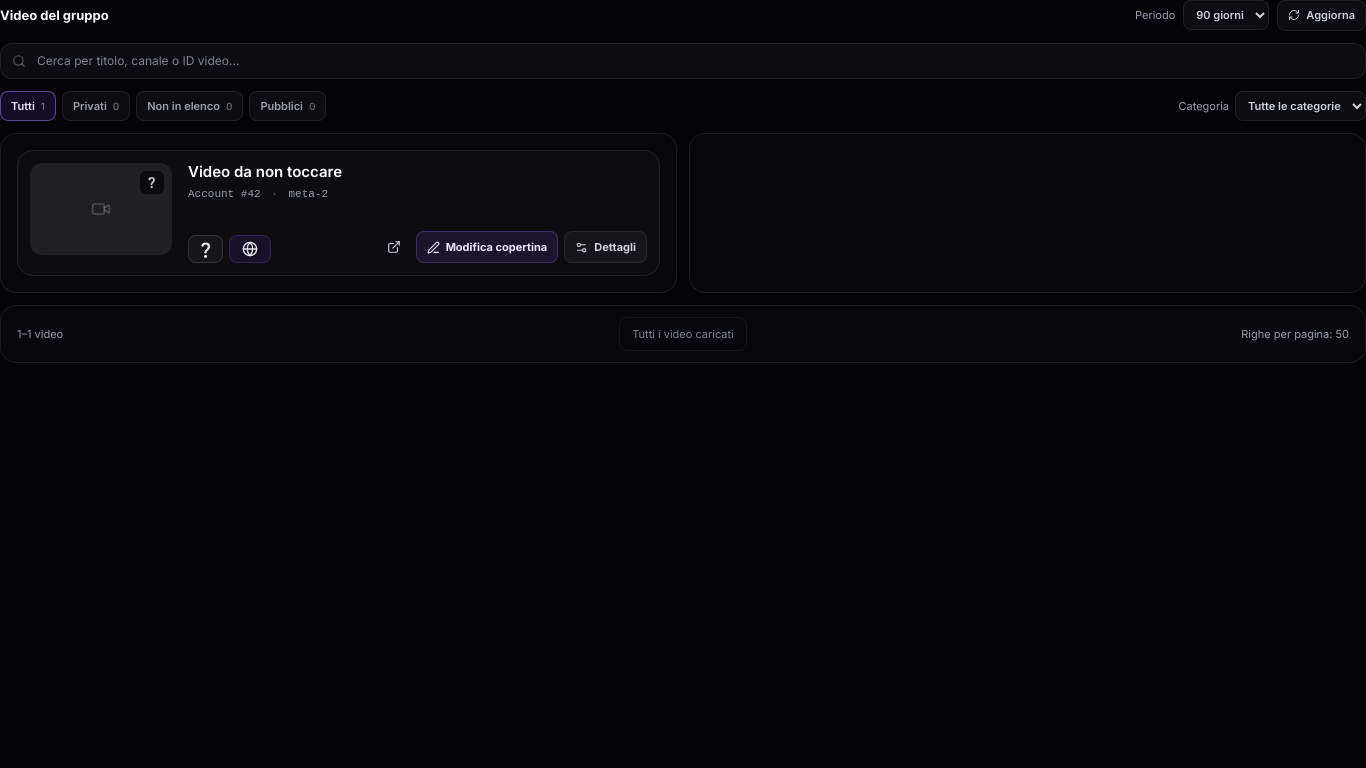
Test: GroupYouTubeVideos › cancels the 'Modifica video' drawer without saving
Expected: the text "Video da non toccare" is shown, x1=188 y1=162 x2=342 y2=181
Click the button "Dettagli" at [606, 247], box x1=564 y1=231 x2=647 y2=263
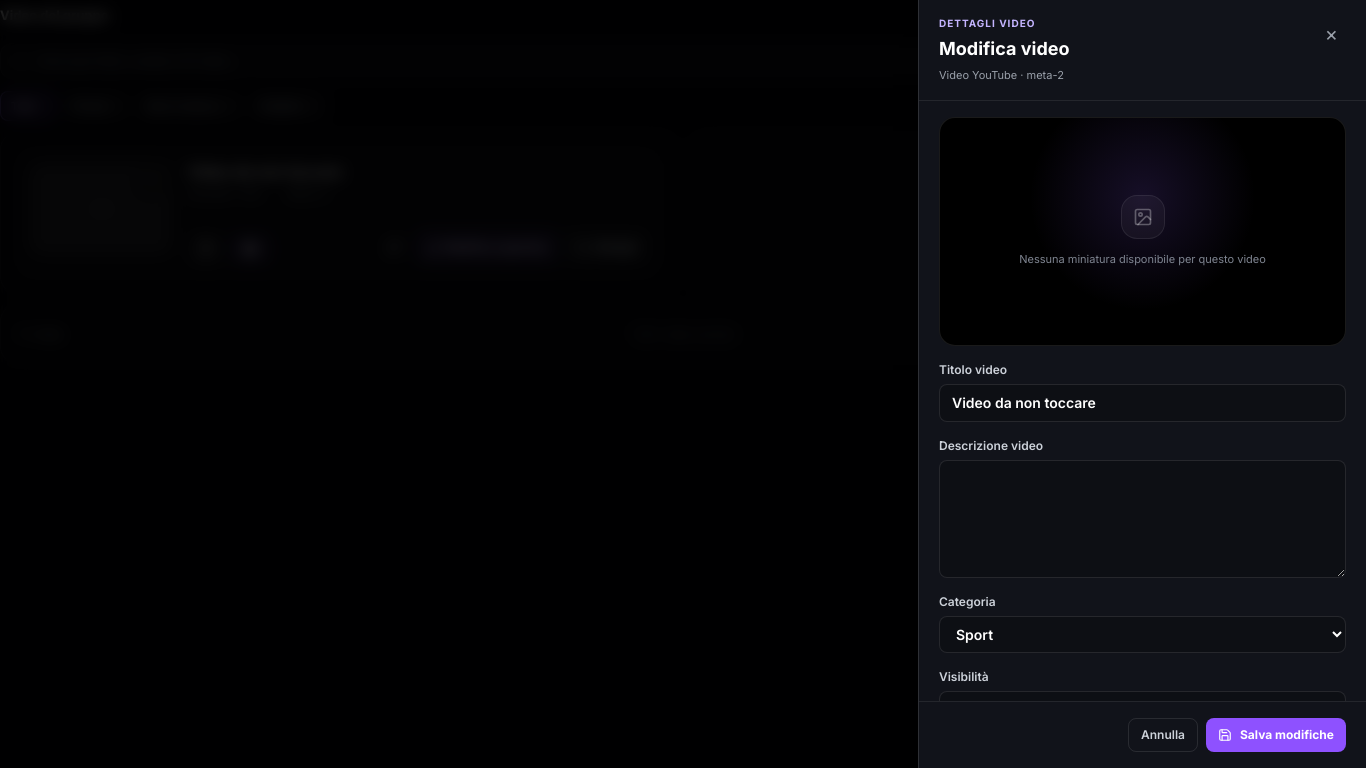
Result: the dialog with test id "edit-metadata-drawer" is shown at x1=918 y1=0 x2=1365 y2=767
Note: Dirty the fields, then Annulla: no PATCH is issued.
Replace the text in the field with test id "edit-metadata-title-input" with "Non salvato" at [1142, 403], box x1=939 y1=384 x2=1346 y2=422
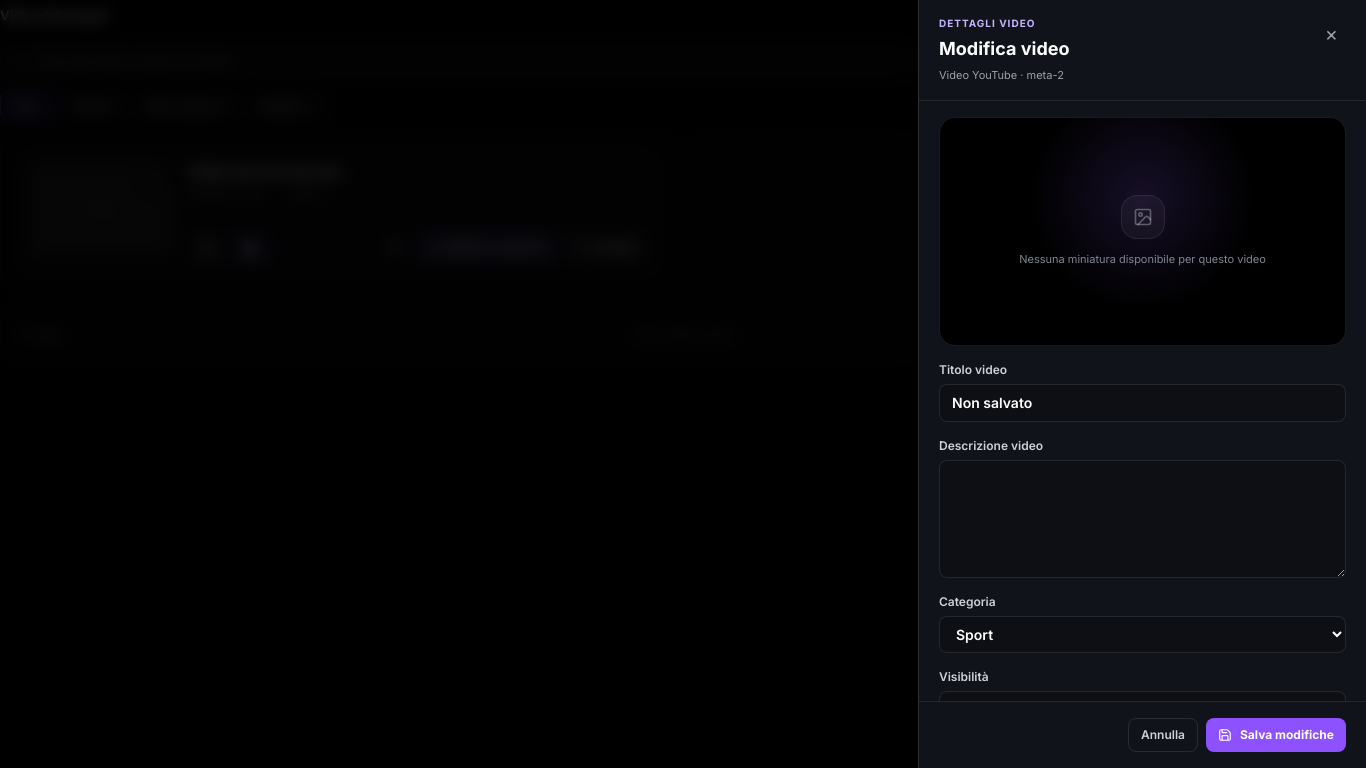
Click the button with test id "edit-metadata-cancel" at [1163, 735], box x1=1128 y1=718 x2=1198 y2=752
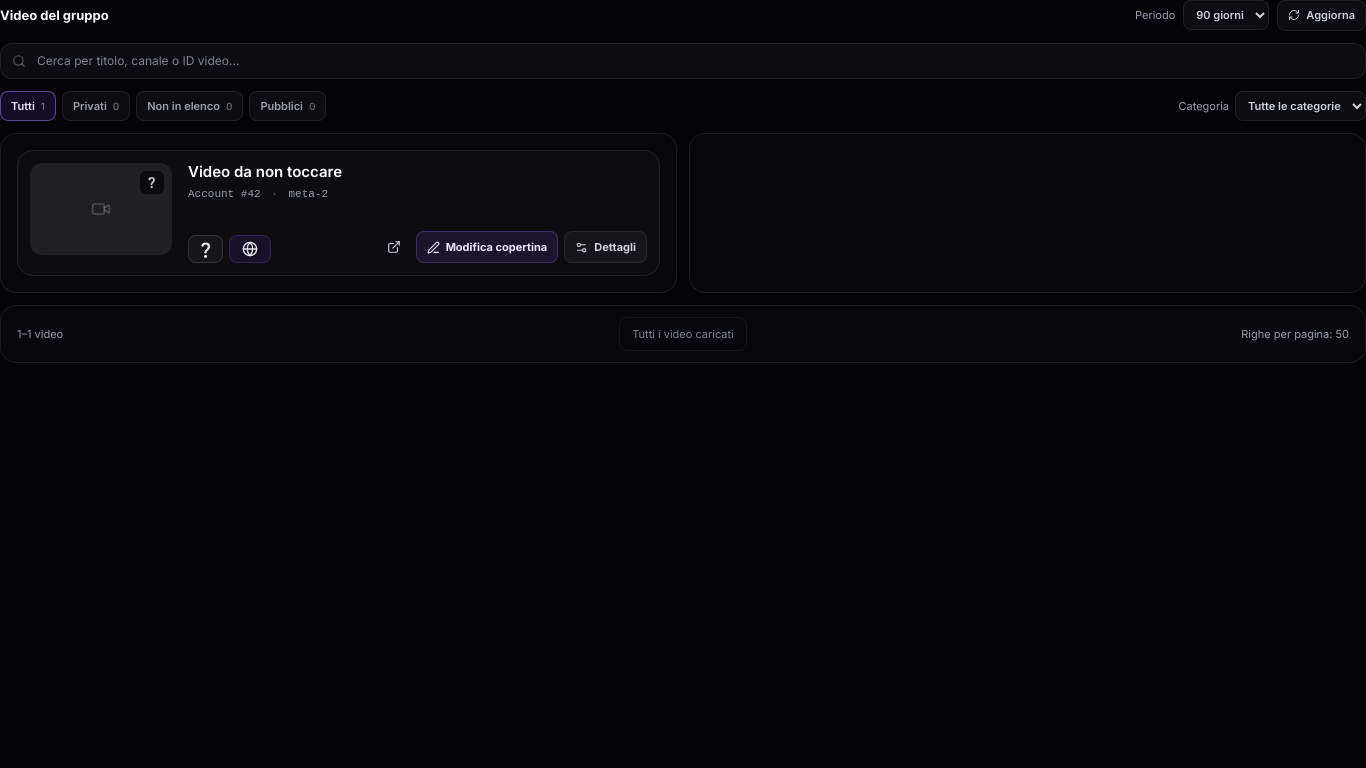
Result: the dialog with test id "edit-metadata-drawer" is gone
